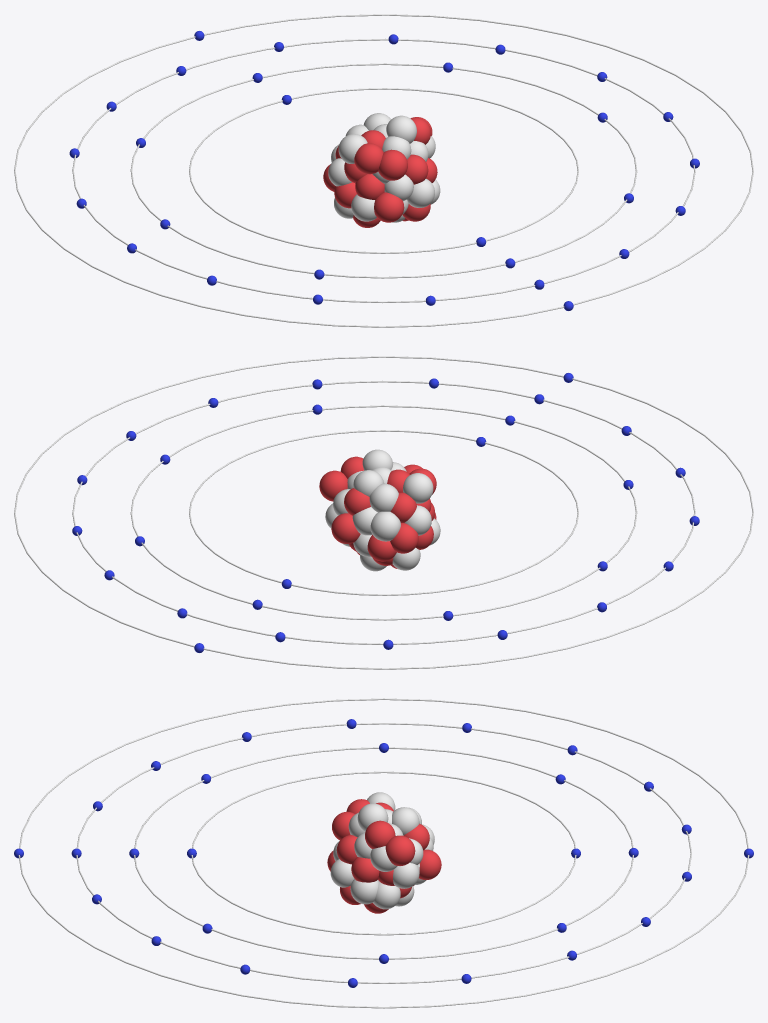
File: Kupfer.glb
3 views of the same model, one above another, from view 1: azimuth 30°, elevation 25°; view 2: azimuth 150°, elevation 25°; view 3: azimuth 270°, elevation 25° (orthographic).
Visible parts, largest first — view 1: N-Schale, M-Schale, L-Schale, K-Schale, Proton 27, Proton 24, Proton 28, Neutron 31, Proton 10, Neutron 27, Neutron 35; view 2: N-Schale, M-Schale, L-Schale, K-Schale, Neutron 8, Neutron 35, Neutron 16, Proton 18, Proton 29, Proton 4, Neutron 30, Proton 12; view 3: N-Schale, M-Schale, L-Schale, K-Schale, Proton 29, Proton 26, Neutron 34, Proton 22, Neutron 31, Neutron 32, Neutron 33, Proton 18 (+1 smaller).
Part boxes in pixels (bbox=[...]): N-Schale: bbox=[14, 14, 753, 327]; M-Schale: bbox=[72, 38, 695, 303]; L-Schale: bbox=[130, 63, 637, 278]; K-Schale: bbox=[189, 88, 578, 253]; Proton 27: bbox=[378, 149, 407, 180]; Proton 24: bbox=[374, 192, 404, 222]; Proton 28: bbox=[354, 143, 383, 174]; Neutron 31: bbox=[386, 115, 416, 143]; Proton 10: bbox=[355, 174, 384, 199]; Neutron 27: bbox=[407, 179, 434, 207]; Neutron 35: bbox=[338, 134, 367, 163]; N-Schale: bbox=[14, 356, 753, 669]; M-Schale: bbox=[72, 380, 695, 644]; L-Schale: bbox=[130, 405, 637, 620]; K-Schale: bbox=[189, 430, 578, 595]; Neutron 8: bbox=[370, 511, 400, 541]; Neutron 35: bbox=[403, 473, 433, 503]; Neutron 16: bbox=[369, 483, 398, 512]; Proton 18: bbox=[331, 513, 360, 543]; Proton 29: bbox=[319, 470, 347, 501]; Proton 4: bbox=[390, 523, 418, 553]; Neutron 30: bbox=[353, 470, 384, 496]; Proton 12: bbox=[367, 535, 396, 561]; N-Schale: bbox=[18, 698, 749, 1008]; M-Schale: bbox=[76, 723, 691, 983]; L-Schale: bbox=[134, 747, 633, 959]; K-Schale: bbox=[191, 771, 576, 935]; Proton 29: bbox=[385, 835, 415, 865]; Proton 26: bbox=[365, 820, 395, 848]; Neutron 34: bbox=[393, 862, 419, 888]; Proton 22: bbox=[351, 857, 379, 882]; Neutron 31: bbox=[357, 803, 388, 831]; Neutron 32: bbox=[350, 879, 378, 904]; Neutron 33: bbox=[373, 881, 400, 909]; Proton 18: bbox=[419, 849, 441, 880].
Size of the model in its own units: 19.04 by 3.03 by 19.26.
